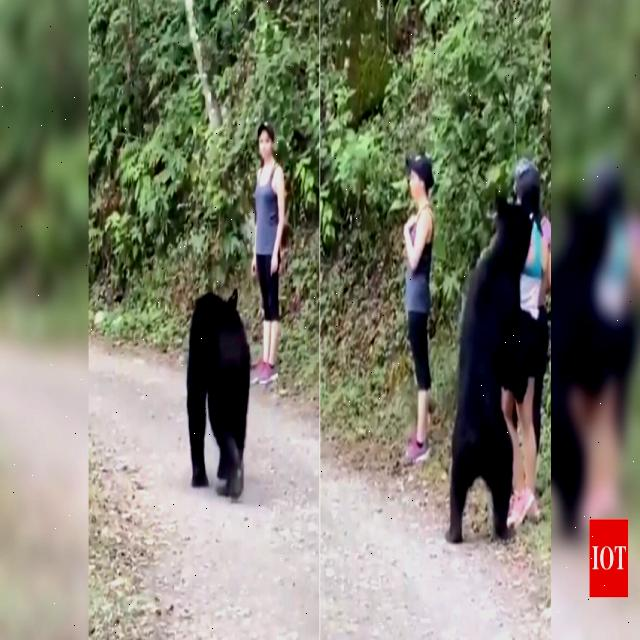bear: (182, 272, 249, 397)
deer: (490, 193, 532, 276)
